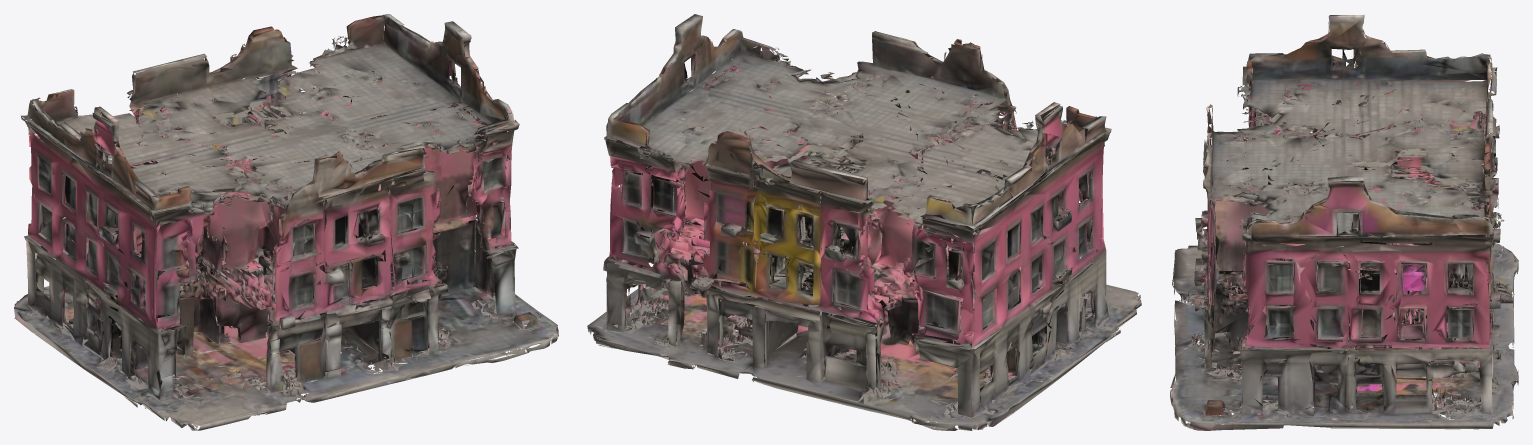
File: building1.glb
The picture shows the model from 3 angles, left to right: view 1: azimuth 30°, elevation 25°; view 2: azimuth 150°, elevation 25°; view 3: azimuth 270°, elevation 25°; orthographic projection. The views are drawn at different scales.
Visible parts, largest first — view 1: Object_4; view 2: Object_4; view 3: Object_4.
Part boxes in pixels (<box>): Object_4: <box>14,14,558,430</box>; Object_4: <box>587,14,1141,430</box>; Object_4: <box>1170,15,1518,430</box>.
Bounding box in the file's own units: 2.01 × 1.23 × 1.61.
Materials: 1 (1 with a texture image).
